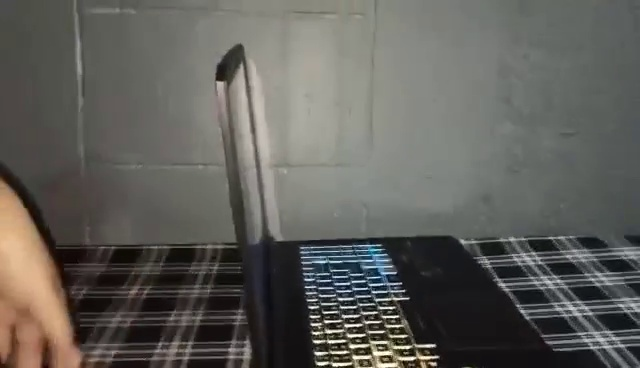laptop: (215, 43, 548, 368)
